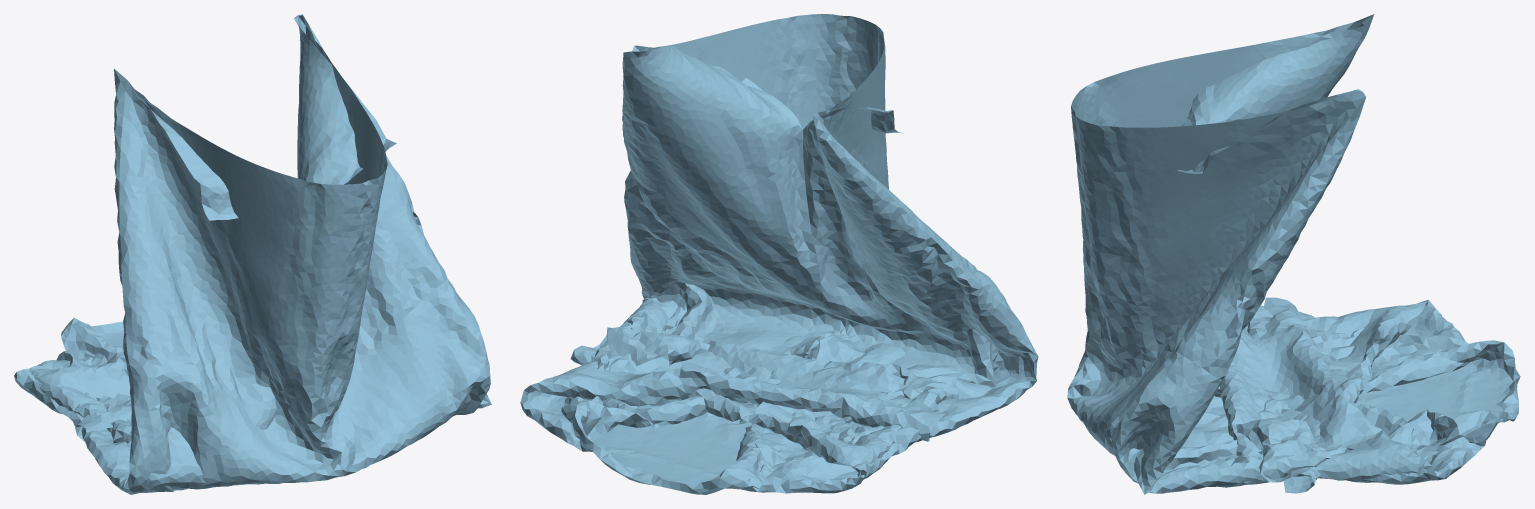
Rendered from frame_15.glb.
The picture shows the model from 3 angles, left to right: view 1: azimuth 30°, elevation 25°; view 2: azimuth 150°, elevation 25°; view 3: azimuth 270°, elevation 25°; orthographic projection. The views are drawn at different scales.
Visible parts, largest first — view 1: frame_15.obj; view 2: frame_15.obj; view 3: frame_15.obj.
Boxes of the visible parts, <box> form: frame_15.obj: <box>14,14,491,494</box>; frame_15.obj: <box>520,14,1038,494</box>; frame_15.obj: <box>1067,14,1520,494</box>.
Bounding box in the file's own units: 0.929 × 0.8215 × 0.924.
